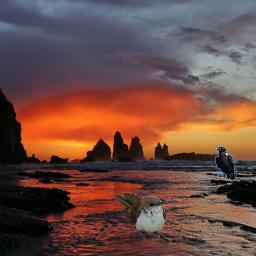Crow: (215, 146, 237, 181)
Cuckoo: (114, 192, 168, 240)
